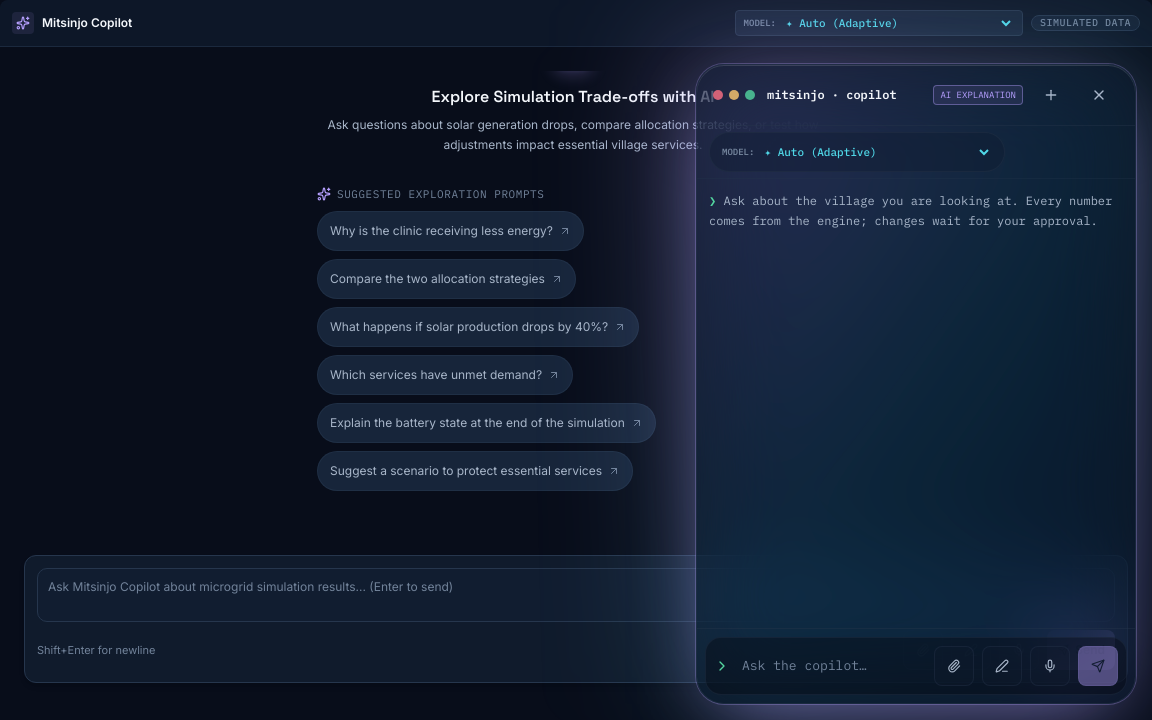
Test case: CopilotTerminal (glass chat over the full-screen village) › chooses the model, shared with the copilot tab
The width and height of the screenshot is (1152, 720).
(page scrolled)
Step 1. Select "muse-wonder-1.0 (deep reasoning)" in the dropdown named "model" below "mitsinjo · copilot" → (876,152), box [760,144,992,160]
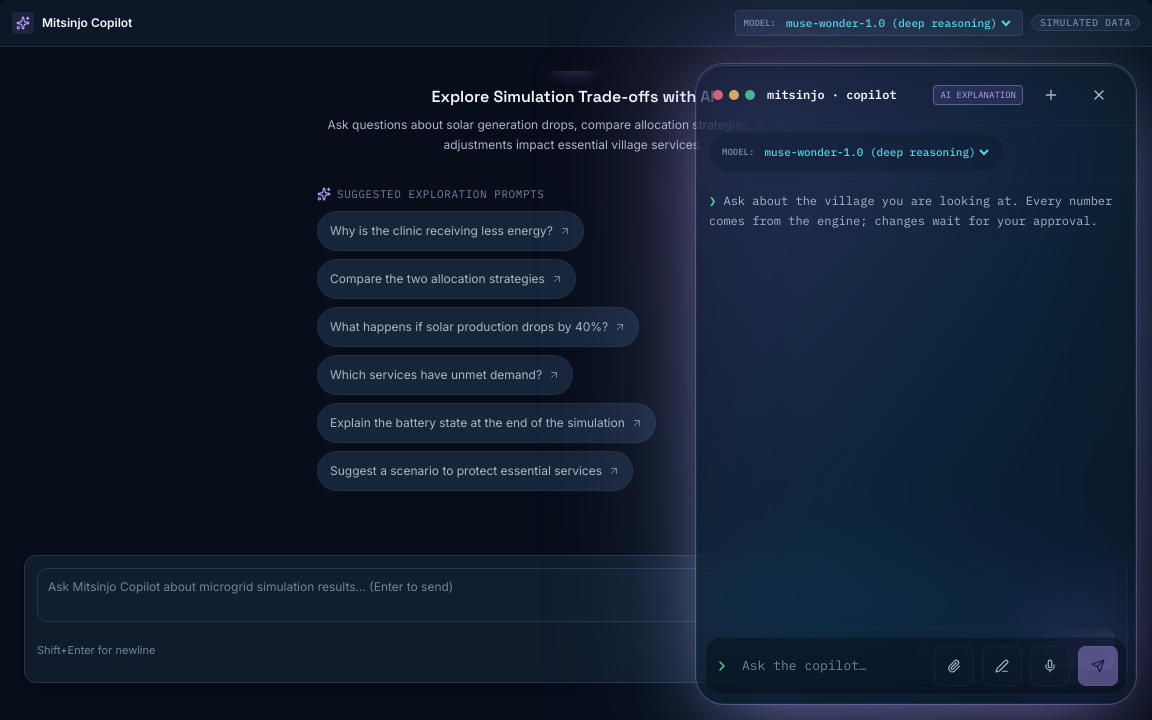
Expected: the dropdown named "model" next to "SIMULATED DATA" shows "muse-wonder-1.0 (deep reasoning)", [782,15,1014,31]
